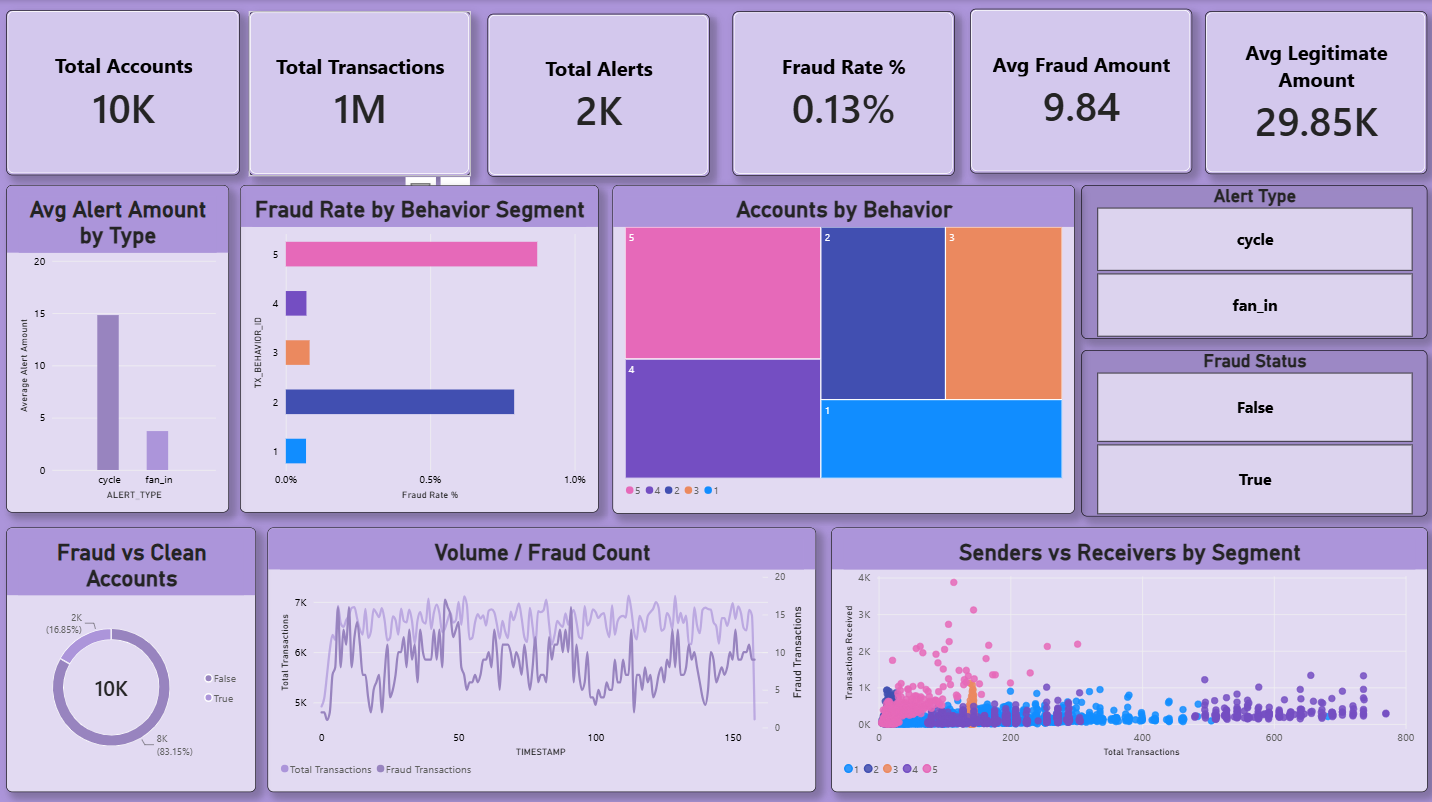

This screenshot's page, from the dashboard's own definition file:
{"tool":"powerbi","page":{"name":"Page 1","canvas":[1920,1080],"ordinal":0},"visuals":[{"type":"cardVisual","title":"Total Accounts","fields":{"Data":["_measures.Total Accounts"]},"box":[8.3,13.4,312.2,220.4],"z":0},{"type":"cardVisual","fields":{"Data":["_measures.Total Transactions"]},"box":[332.3,15,296.6,219.7],"z":1000},{"type":"cardVisual","fields":{"Data":["_measures.Total Alerts"]},"box":[651.2,18.4,296.6,217.5],"z":2000},{"type":"cardVisual","fields":{"Data":["_measures.Fraud Rate %"]},"box":[978.5,15,296.6,219.7],"z":3000},{"type":"cardVisual","fields":{"Data":["_measures.Avg Fraud Amount"]},"box":[1295.7,11.7,296.6,219.7],"z":4000},{"type":"cardVisual","fields":{"Data":["_measures.Avg Legitimate Amount"]},"box":[1609.7,15,296.6,217.5],"z":5000},{"type":"slicer","title":"Alert Type","fields":{"Values":["alerts.ALERT_TYPE"]},"box":[1444.3,247.1,462.5,205.4],"z":6000},{"type":"slicer","title":"Fraud Status","fields":{"Values":["transactions.IS_FRAUD"]},"box":[1444.3,467.5,462.5,222.1],"z":7000},{"type":"donutChart","title":"Fraud vs Clean Accounts","fields":{"Category":["accounts.IS_FRAUD"],"Y":["_measures.Total Accounts"]},"box":[8.3,704.6,334,354],"z":8000},{"type":"barChart","title":"Fraud Rate by Behavior Segment","fields":{"Category":["accounts.TX_BEHAVIOR_ID"],"Y":["_measures.Fraud Rate %"]},"box":[320.6,247.1,479.2,437.5],"z":9000},{"type":"columnChart","title":"Avg Alert Amount by Type","fields":{"Category":["alerts.ALERT_TYPE"],"Y":["_measures.Average Alert Amount"]},"box":[8.3,247.1,297.2,437.5],"z":10000},{"type":"scatterChart","title":"Senders vs Receivers by Segment","fields":{"X":["_measures.Total Transactions"],"Y":["_measures.Transactions Received"],"Series":["accounts.TX_BEHAVIOR_ID"],"Category":["accounts.ACCOUNT_ID"]},"box":[1110.4,704.6,796.5,354],"z":11000},{"type":"lineChart","title":"Volume / Fraud Count","fields":{"Y":["_measures.Total Transactions"],"Category":["transactions.TIMESTAMP"],"Y2":["_measures.Fraud Transactions"]},"box":[357.3,704.6,733,354],"z":12000},{"type":"treemap","title":"Accounts by Behavior","fields":{"Values":["_measures.Fraud Account Rate %"],"Group":["accounts.TX_BEHAVIOR_ID"]},"box":[818.2,247.1,617.8,439.1],"z":13000}]}

Visuals, with their boxes in screenshot pixels (x1, y1, x2, y2), scaled from the page's 1920x1080 canvas onto the 1432x802 screenshot:
"Total Accounts" cardVisual: [left=6, top=10, right=239, bottom=174]
cardVisual - _measures.Total Transactions: [left=248, top=11, right=469, bottom=174]
cardVisual - _measures.Total Alerts: [left=486, top=14, right=707, bottom=175]
cardVisual - _measures.Fraud Rate %: [left=730, top=11, right=951, bottom=174]
cardVisual - _measures.Avg Fraud Amount: [left=966, top=9, right=1188, bottom=172]
cardVisual - _measures.Avg Legitimate Amount: [left=1201, top=11, right=1422, bottom=173]
"Alert Type" slicer: [left=1077, top=183, right=1422, bottom=336]
"Fraud Status" slicer: [left=1077, top=347, right=1422, bottom=512]
"Fraud vs Clean Accounts" donutChart: [left=6, top=523, right=255, bottom=786]
"Fraud Rate by Behavior Segment" barChart: [left=239, top=183, right=597, bottom=508]
"Avg Alert Amount by Type" columnChart: [left=6, top=183, right=228, bottom=508]
"Senders vs Receivers by Segment" scatterChart: [left=828, top=523, right=1422, bottom=786]
"Volume / Fraud Count" lineChart: [left=266, top=523, right=813, bottom=786]
"Accounts by Behavior" treemap: [left=610, top=183, right=1071, bottom=510]
